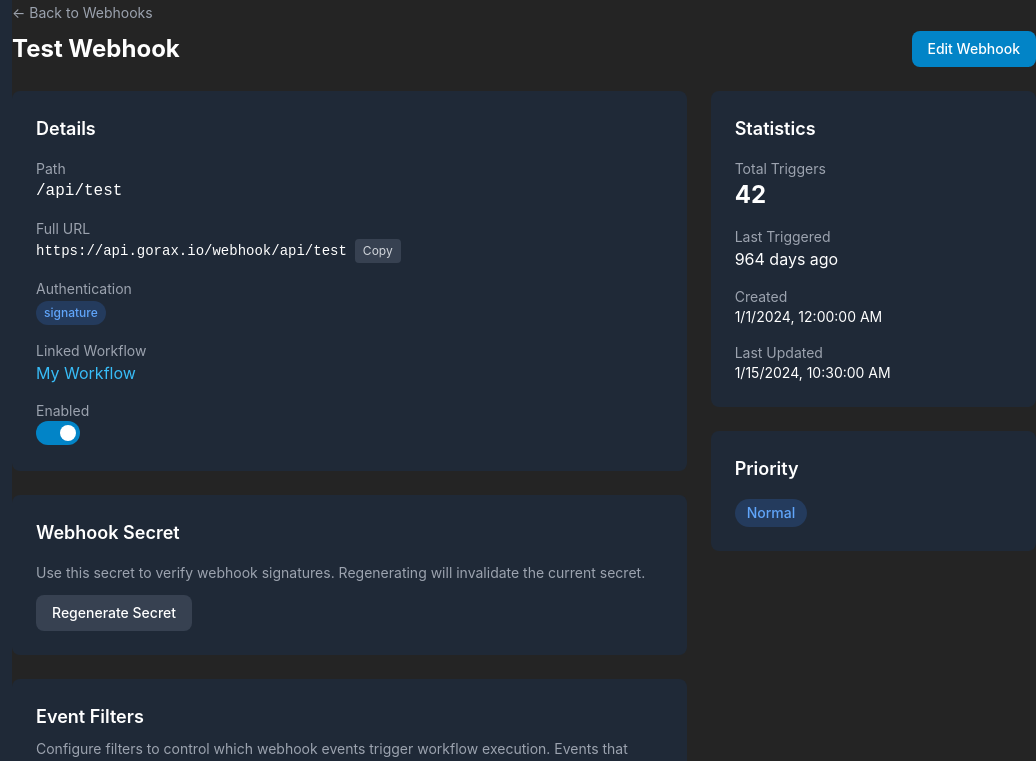
Test: WebhookDetail › Toggle Error Handling › should show error when toggle fails
Click the switch.
click(58, 433)  # box left=36, top=421, right=80, bottom=445
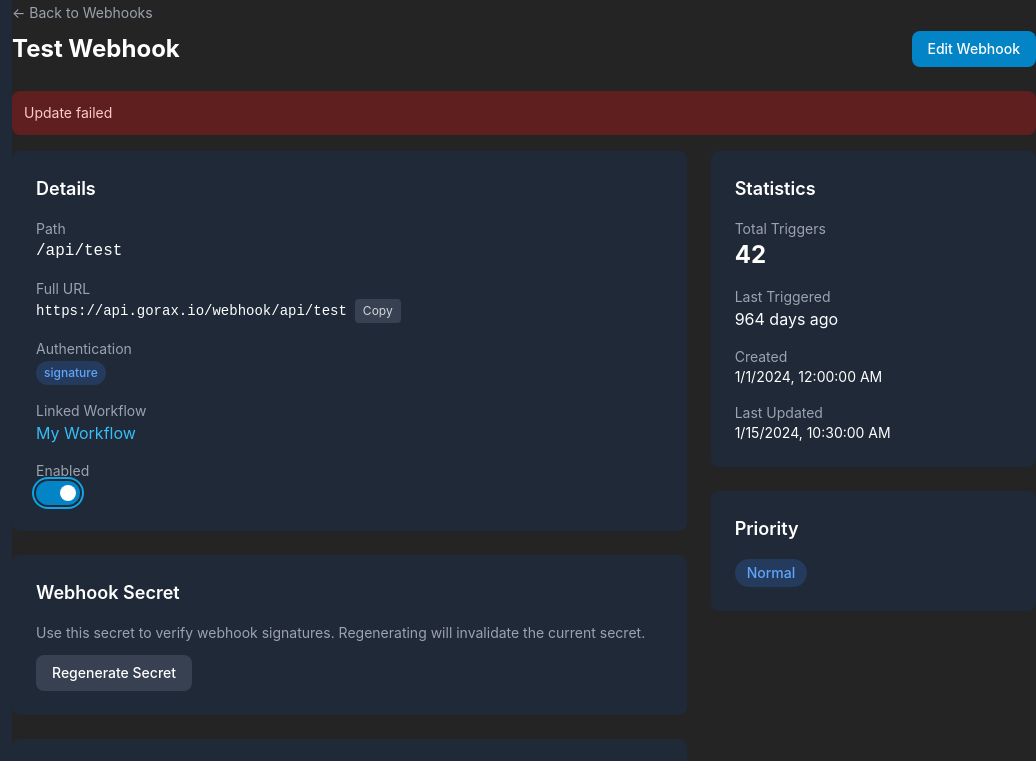
Expected: the text "Update failed" is shown, left=12, top=91, right=1035, bottom=135
